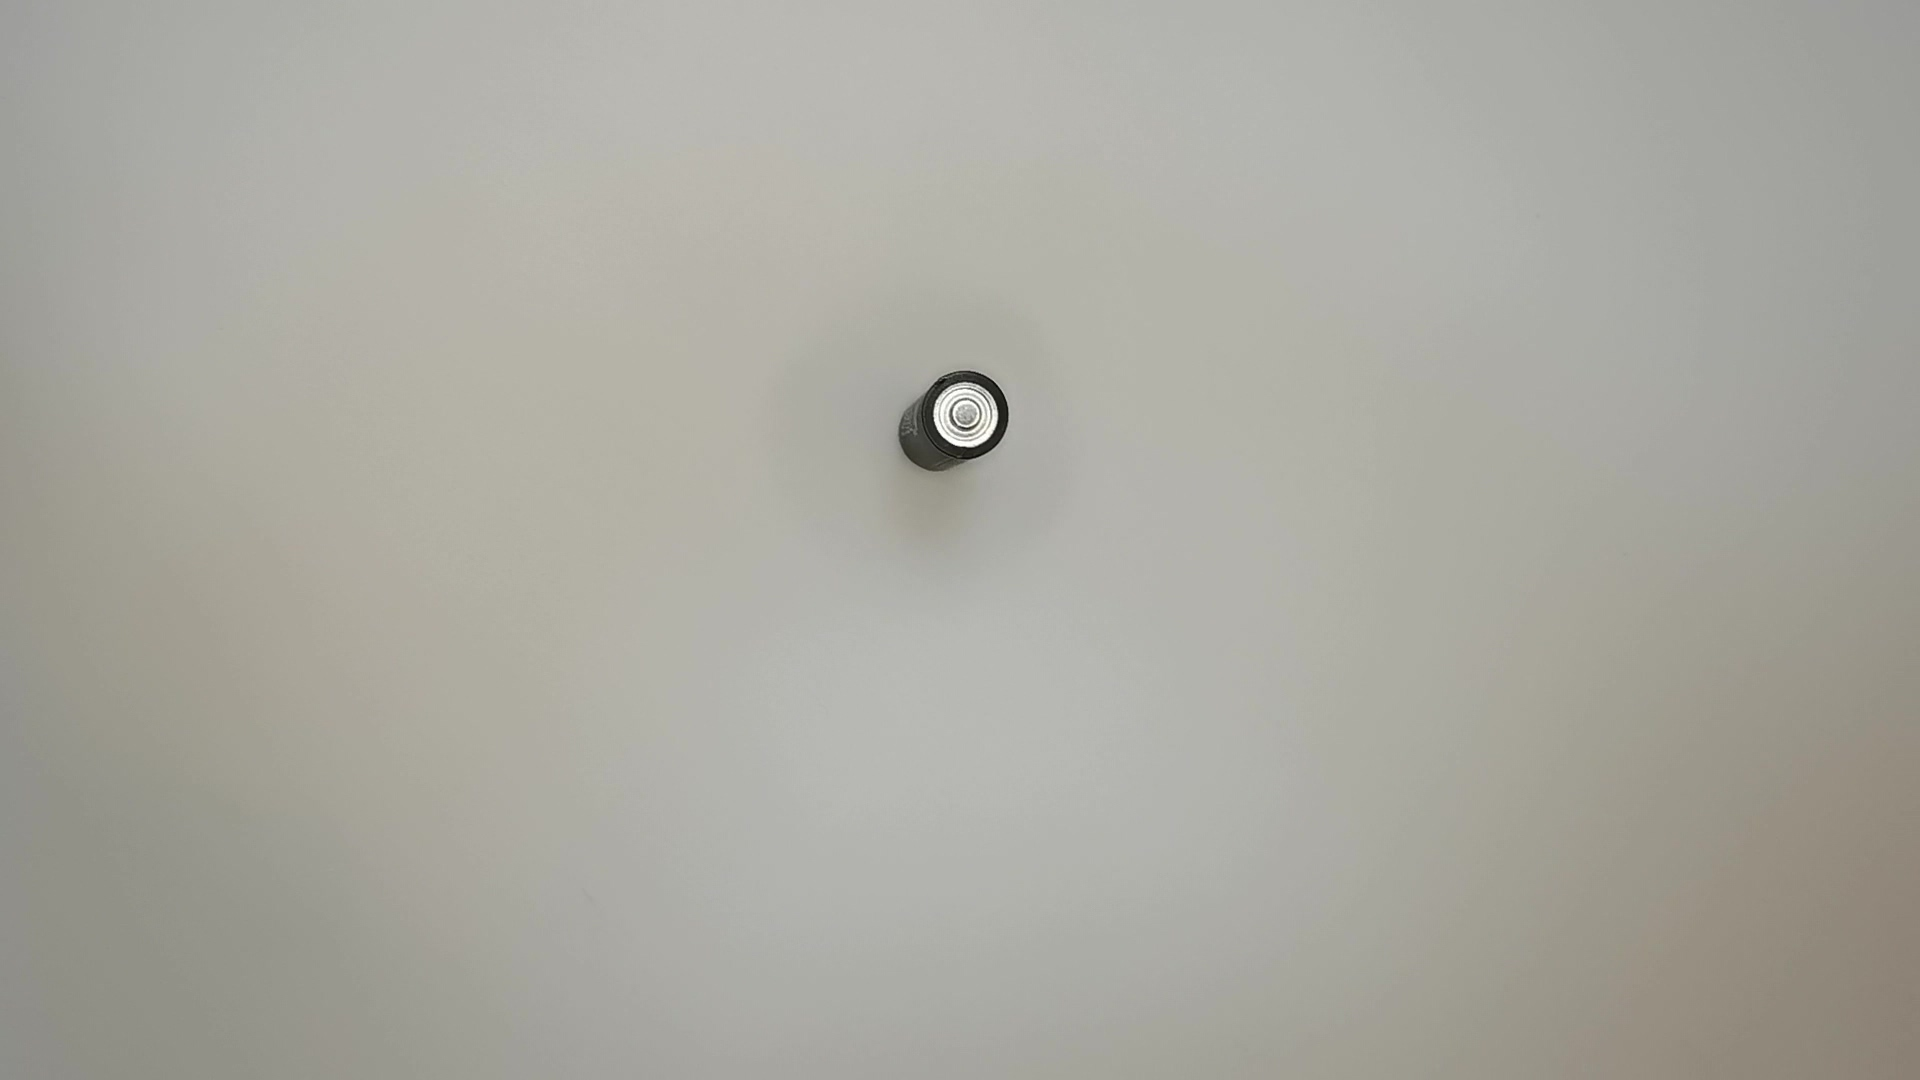battery: (895, 369, 1015, 483)
